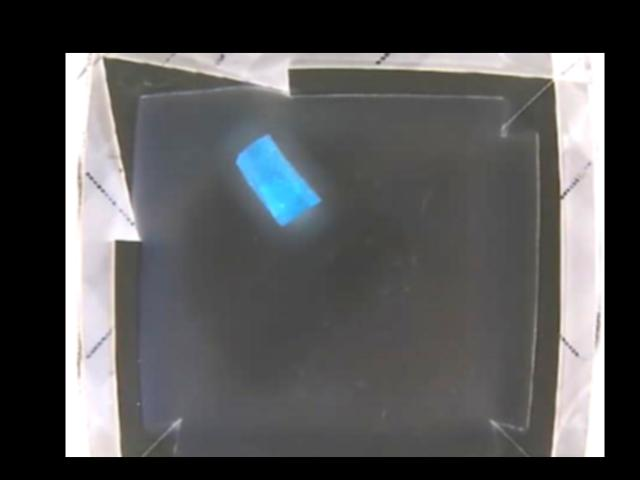Carrot: (232, 135, 320, 225)
